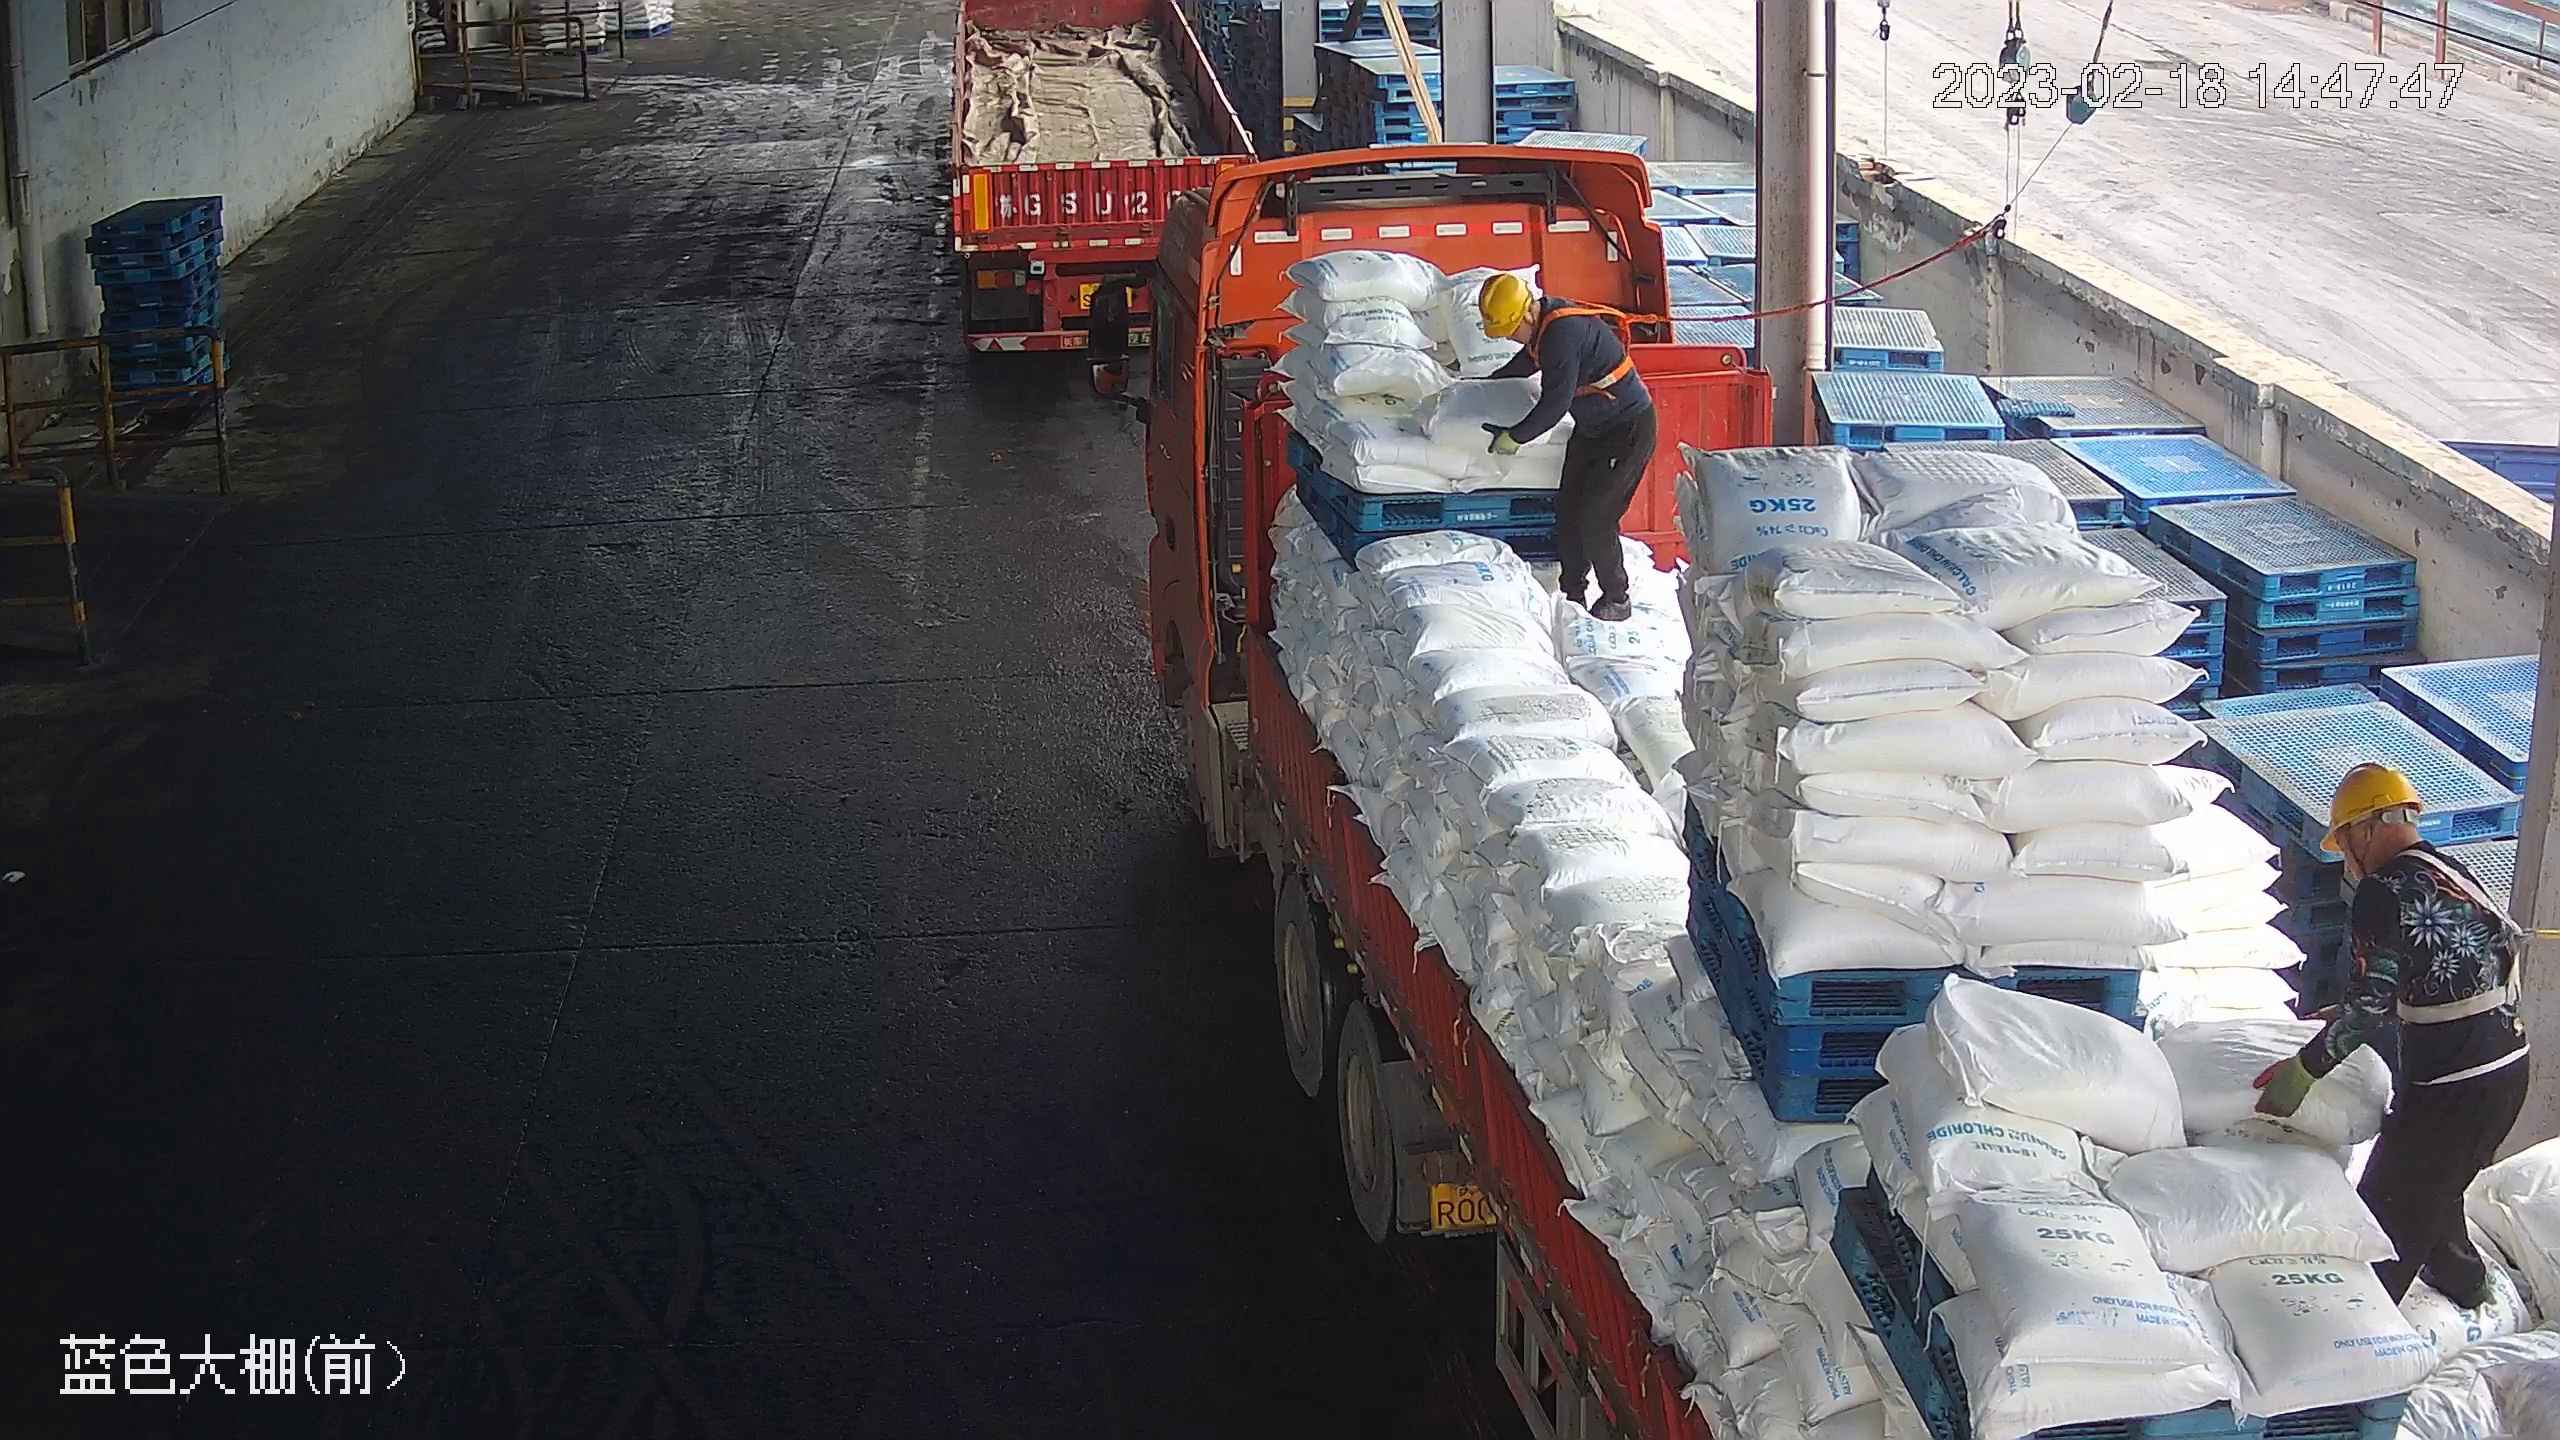belt: (2381, 850, 2531, 1025), (1539, 294, 1645, 392)
head: (2311, 761, 2496, 946), (1477, 269, 1597, 372)
helmet: (2318, 759, 2428, 854), (1475, 269, 1534, 338)
people: (2253, 758, 2534, 1317), (1473, 268, 1660, 622)
truck: (1087, 141, 2550, 1437), (937, 1, 1261, 357)
